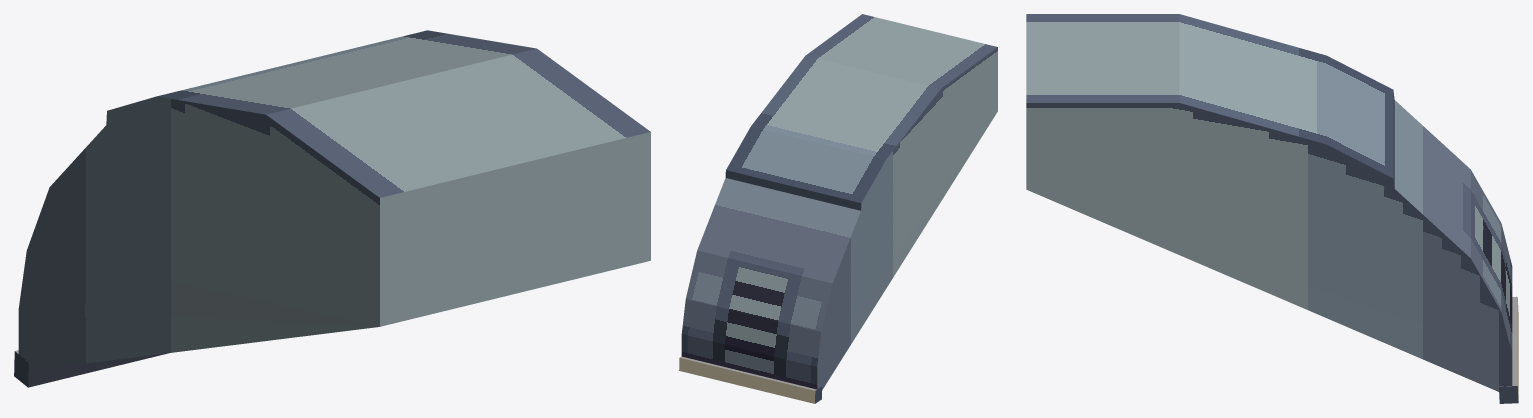
The model's file is df11_carport_equip_b.obj.
3 renders of one model, left to right at view 1: azimuth 30°, elevation 25°; view 2: azimuth 150°, elevation 25°; view 3: azimuth 270°, elevation 25°, orthographic. The views are drawn at different scales.
Parts seen in each view (by area): view 1: cube_selection; view 2: cube_selection; view 3: cube_selection.
Part boxes in pixels (bbox=[...]): cube_selection: bbox=[14, 30, 650, 387]; cube_selection: bbox=[679, 14, 997, 403]; cube_selection: bbox=[1026, 14, 1518, 403].
Bounding box in the file's own units: 0.6891 × 1.08 × 1.61.
